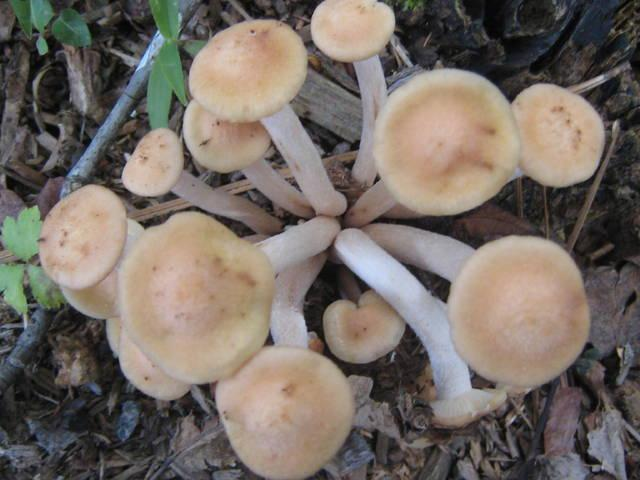Edible Mushroom: (37, 0, 605, 478)
